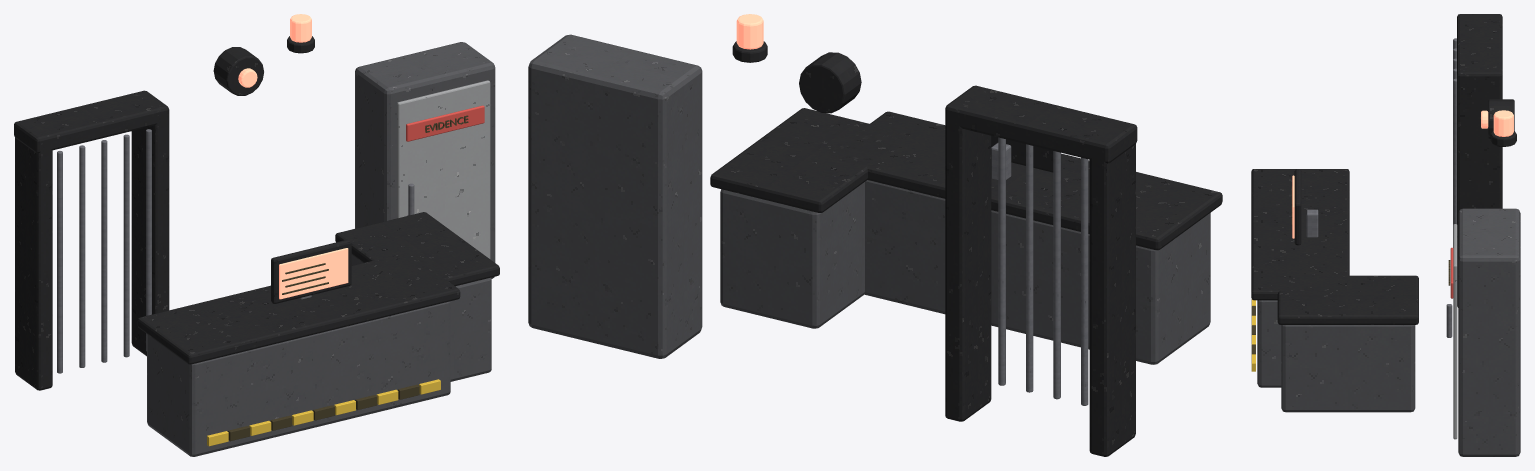
Rendered from department_security_dressing.glb.
The picture shows the model from 3 angles, left to right: view 1: azimuth 30°, elevation 25°; view 2: azimuth 150°, elevation 25°; view 3: azimuth 270°, elevation 25°; orthographic projection. The views are drawn at different scales.
Visible parts, largest first — view 1: DEPT_Security__Checkpoint_Desk_Main, DEPT_Security__Checkpoint_Desk_Top, DEPT_Security__Evidence_Locker, DEPT_Security__Evidence_Door, DEPT_Security__Brig_Frame_Left, DEPT_Security__Brig_Frame_Right, DEPT_Security__Checkpoint_Desk_Return_Top, DEPT_Security__Brig_Frame_Top, DEPT_Security__Checkpoint_Desk_Return, DEPT_Security__Desk_Screen_Glow, DEPT_Security__Camera_Dome, DEPT_Security__Brig_Bar_4 (+7 smaller); view 2: DEPT_Security__Evidence_Locker, DEPT_Security__Checkpoint_Desk_Main, DEPT_Security__Checkpoint_Desk_Return, DEPT_Security__Brig_Frame_Left, DEPT_Security__Checkpoint_Desk_Top, DEPT_Security__Brig_Frame_Right, DEPT_Security__Checkpoint_Desk_Return_Top, DEPT_Security__Brig_Frame_Top, DEPT_Security__Camera_Dome, DEPT_Security__Brig_Bar_4, DEPT_Security__Brig_Bar_5, DEPT_Security__Brig_Bar_2 (+3 smaller); view 3: DEPT_Security__Evidence_Locker, DEPT_Security__Checkpoint_Desk_Return, DEPT_Security__Checkpoint_Desk_Top, DEPT_Security__Checkpoint_Desk_Return_Top, DEPT_Security__Brig_Frame_Right, DEPT_Security__Brig_Frame_Top, DEPT_Security__Checkpoint_Desk_Main, DEPT_Security__Evidence_Door, DEPT_Security__Brig_Bar_5, DEPT_Security__Desk_Screen_Bezel, DEPT_Security__Alert_Beacon, DEPT_Security__Camera_Dome (+2 smaller).
Part boxes in pixels (x1=…): DEPT_Security__Checkpoint_Desk_Main: x1=147, y1=301, x2=450, y2=456; DEPT_Security__Checkpoint_Desk_Top: x1=137, y1=252, x2=460, y2=364; DEPT_Security__Evidence_Locker: x1=355, y1=42, x2=495, y2=278; DEPT_Security__Evidence_Door: x1=397, y1=80, x2=490, y2=258; DEPT_Security__Brig_Frame_Left: x1=15, y1=136, x2=52, y2=390; DEPT_Security__Brig_Frame_Right: x1=131, y1=107, x2=169, y2=356; DEPT_Security__Checkpoint_Desk_Return_Top: x1=335, y1=212, x2=499, y2=286; DEPT_Security__Brig_Frame_Top: x1=14, y1=90, x2=169, y2=153; DEPT_Security__Checkpoint_Desk_Return: x1=351, y1=255, x2=491, y2=381; DEPT_Security__Desk_Screen_Glow: x1=279, y1=248, x2=348, y2=299; DEPT_Security__Camera_Dome: x1=213, y1=47, x2=263, y2=95; DEPT_Security__Brig_Bar_4: x1=123, y1=134, x2=129, y2=357; DEPT_Security__Evidence_Locker: x1=528, y1=34, x2=702, y2=358; DEPT_Security__Checkpoint_Desk_Main: x1=864, y1=180, x2=1210, y2=364; DEPT_Security__Checkpoint_Desk_Return: x1=720, y1=182, x2=864, y2=328; DEPT_Security__Brig_Frame_Left: x1=1089, y1=121, x2=1135, y2=456; DEPT_Security__Checkpoint_Desk_Top: x1=827, y1=111, x2=1222, y2=250; DEPT_Security__Brig_Frame_Right: x1=945, y1=87, x2=991, y2=421; DEPT_Security__Checkpoint_Desk_Return_Top: x1=710, y1=108, x2=910, y2=212; DEPT_Security__Brig_Frame_Top: x1=945, y1=85, x2=1137, y2=163; DEPT_Security__Camera_Dome: x1=799, y1=52, x2=861, y2=113; DEPT_Security__Brig_Bar_4: x1=1026, y1=144, x2=1033, y2=392; DEPT_Security__Brig_Bar_5: x1=998, y1=137, x2=1005, y2=385; DEPT_Security__Brig_Bar_2: x1=1081, y1=157, x2=1088, y2=405; DEPT_Security__Evidence_Locker: x1=1458, y1=208, x2=1520, y2=456; DEPT_Security__Checkpoint_Desk_Return: x1=1281, y1=325, x2=1415, y2=412; DEPT_Security__Checkpoint_Desk_Top: x1=1251, y1=169, x2=1349, y2=300; DEPT_Security__Checkpoint_Desk_Return_Top: x1=1277, y1=275, x2=1418, y2=324; DEPT_Security__Brig_Frame_Right: x1=1457, y1=68, x2=1502, y2=307; DEPT_Security__Brig_Frame_Top: x1=1457, y1=14, x2=1502, y2=85; DEPT_Security__Checkpoint_Desk_Main: x1=1257, y1=300, x2=1281, y2=387; DEPT_Security__Evidence_Door: x1=1453, y1=224, x2=1457, y2=439; DEPT_Security__Brig_Bar_5: x1=1453, y1=78, x2=1456, y2=247; DEPT_Security__Desk_Screen_Bezel: x1=1294, y1=169, x2=1301, y2=245; DEPT_Security__Alert_Beacon: x1=1493, y1=110, x2=1513, y2=136; DEPT_Security__Camera_Dome: x1=1488, y1=99, x2=1514, y2=139.
Bounding box in the file's own units: 4.15 × 2.49 × 2.25.
Materials: 8 (4 with a texture image).
